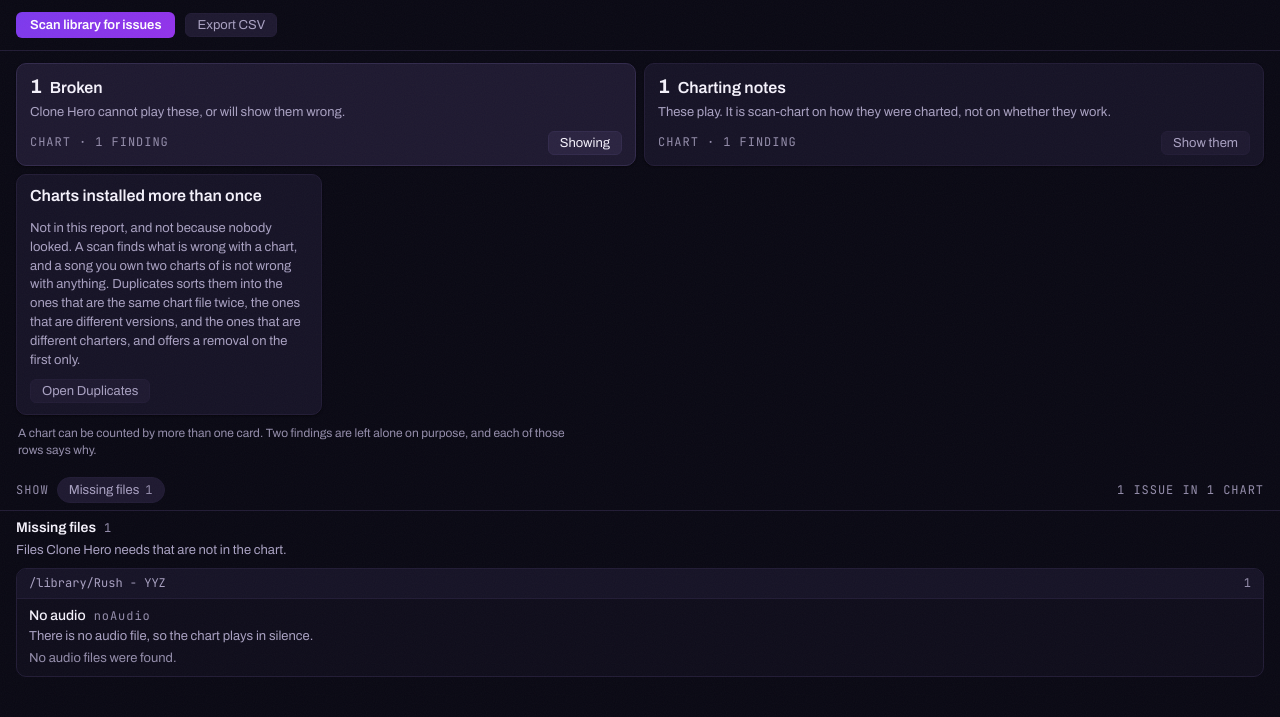
Tools: the filter dead end › drops a category filter whose chip disappears with the charting notes
Click the button with aria-label ": Charting notes". click: (1206, 143)
box: [1161,131,1250,155]
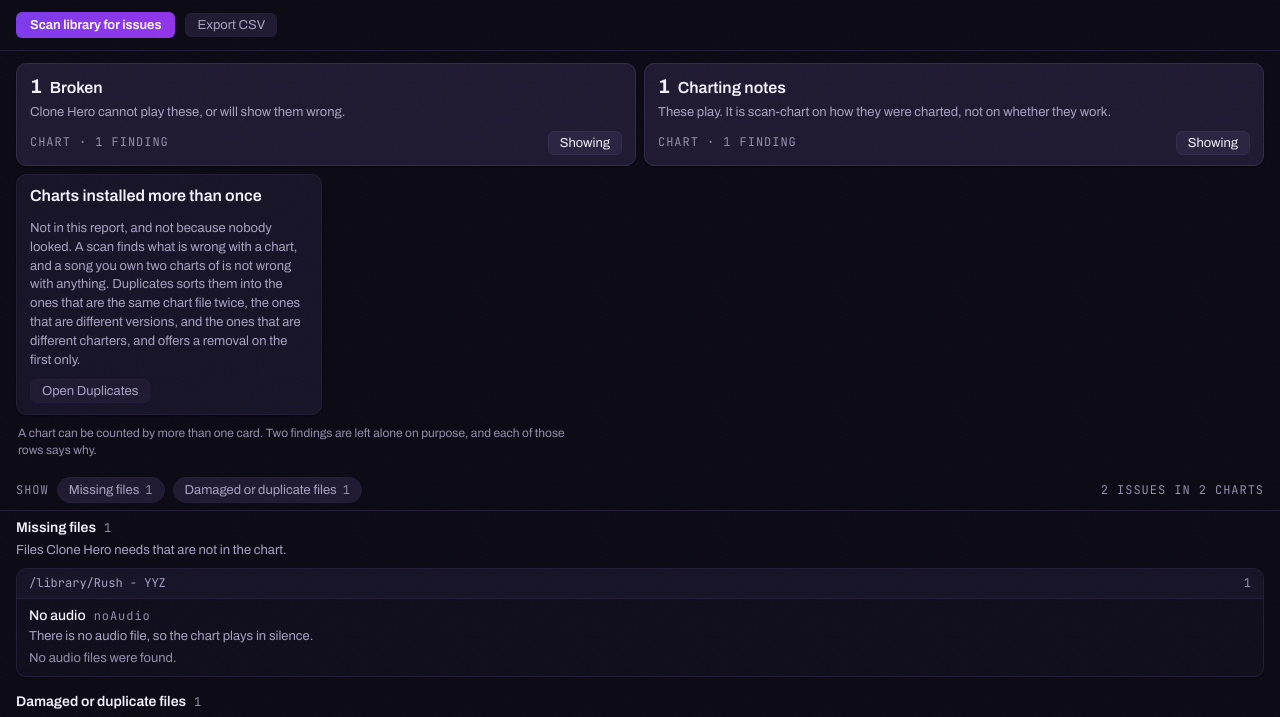
Click the button "Damaged or duplicate files 1". click: (267, 490)
box: [172,477,362,503]
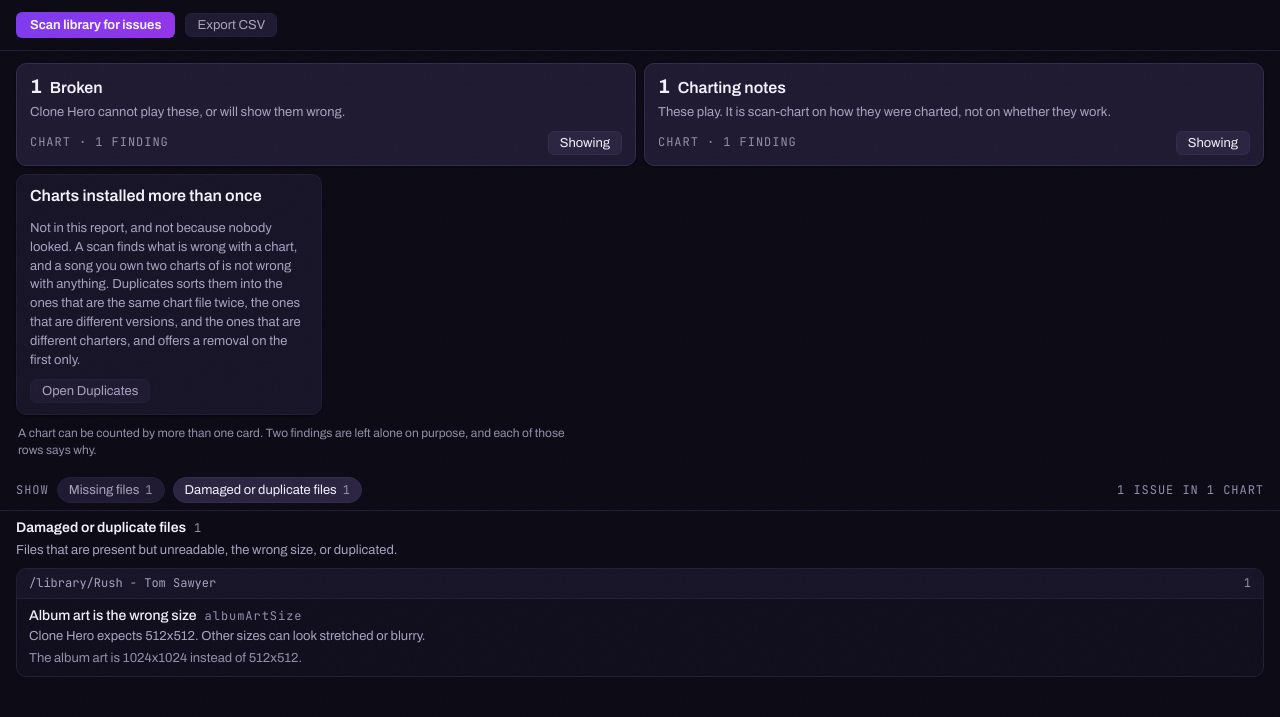
Check: the text "Album art is the wrong size" is shown, box [29,607,197,624]
Check: the text "No audio" is gone
Click the button with aria-label ": Charting notes". click: (1213, 143)
box: [1176,131,1250,155]
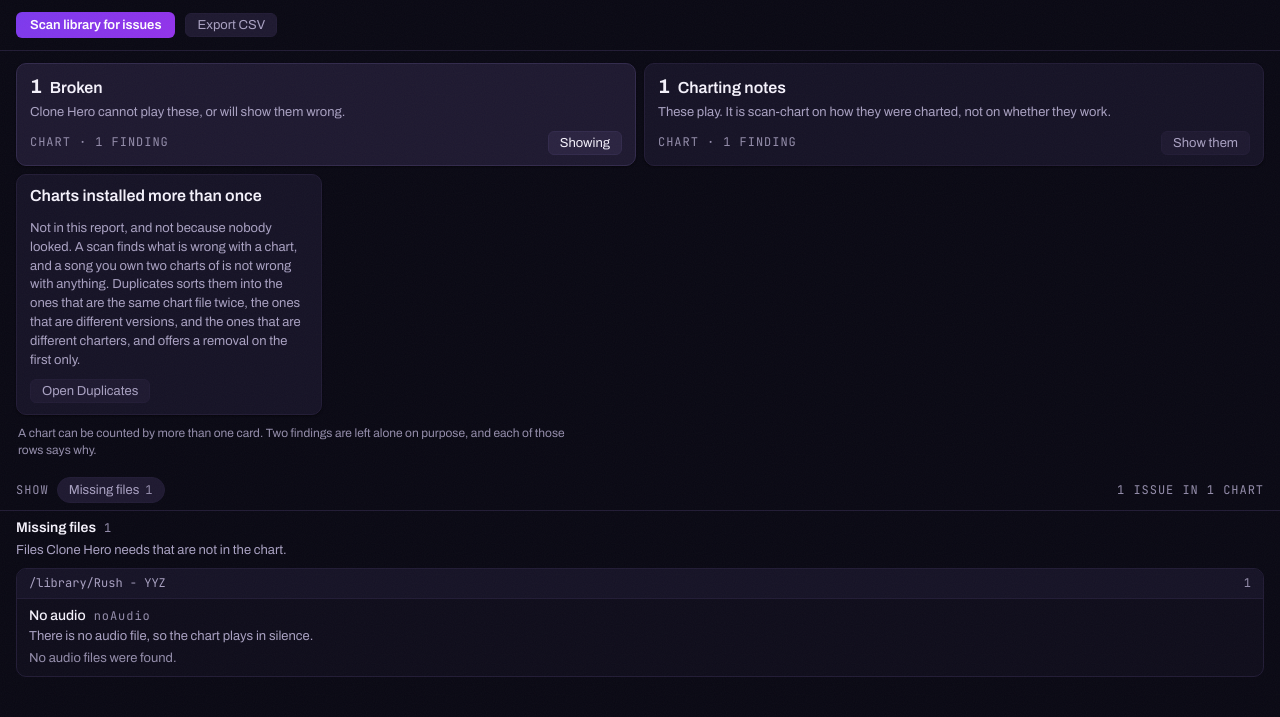
Check: the text "No audio" is shown, box [29,607,86,624]
